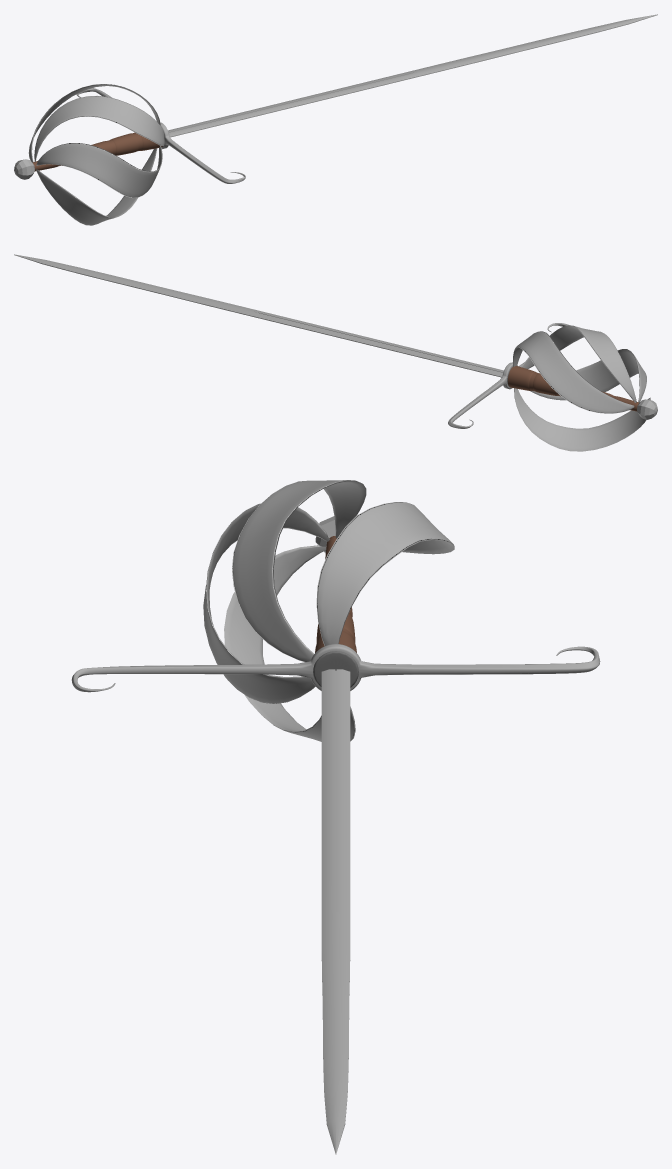
File: Rapier.fbx
3 views of the same model, one above another, from view 1: azimuth 30°, elevation 25°; view 2: azimuth 150°, elevation 25°; view 3: azimuth 270°, elevation 25° (orthographic). The views are drawn at different scales.
Parts seen in each view (by area): view 1: pCylinder2; view 2: pCylinder2; view 3: pCylinder2.
Part boxes in pixels (x1,y1,x2,y2): pCylinder2: (14,14,657,225); pCylinder2: (14,254,657,451); pCylinder2: (71,480,600,1154).
Size of the model in its own units: 10.58 by 1.93 by 3.77.
